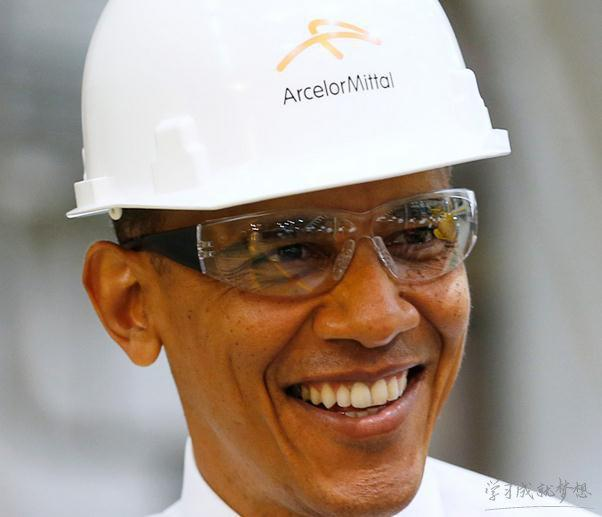helmet: (69, 2, 507, 217)
